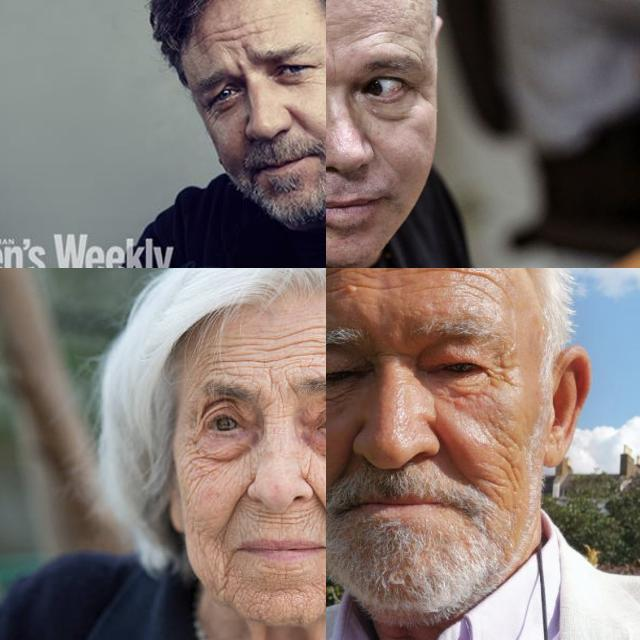bunny_line: (300, 456, 314, 482)
chin: (248, 588, 268, 618), (307, 585, 326, 614), (277, 582, 303, 602)
crows_feet: (480, 352, 516, 392), (184, 427, 200, 468), (203, 105, 219, 126)
forehead: (200, 13, 276, 42), (365, 24, 417, 61), (204, 342, 242, 372), (260, 337, 298, 367), (358, 275, 399, 299), (326, 268, 349, 303), (309, 324, 326, 368), (455, 268, 492, 286)
frown_line: (262, 374, 298, 401), (376, 342, 412, 364), (327, 49, 341, 86), (238, 42, 255, 62)
gummy_smile: (222, 483, 252, 522), (331, 440, 355, 486), (433, 429, 459, 468), (310, 489, 326, 526), (286, 105, 306, 132)
masseter: (494, 432, 524, 490), (190, 524, 206, 550)
sad_smile: (218, 546, 236, 580)
smoker_lines: (260, 512, 304, 534)
